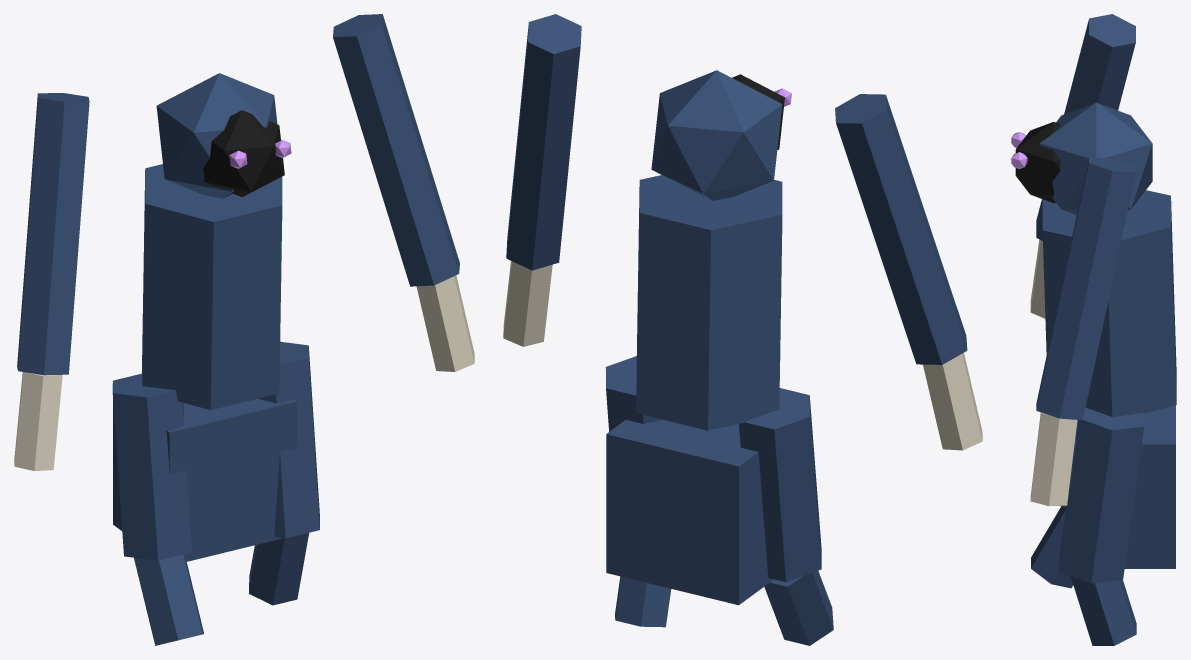
Rendered from npcpose_wraith_walk_10.glb.
3 views of the same model, side by side, from view 1: azimuth 30°, elevation 25°; view 2: azimuth 150°, elevation 25°; view 3: azimuth 270°, elevation 25° (orthographic). The views are drawn at different scales.
Visible parts, largest first — view 1: npcpose; view 2: npcpose; view 3: npcpose.
Part boxes in pixels (x1,y1,x2,y2): npcpose: [14, 14, 474, 645]; npcpose: [503, 14, 982, 645]; npcpose: [1011, 14, 1176, 645].
Size of the model in its own units: 0.9388 by 1.09 by 0.3123.
